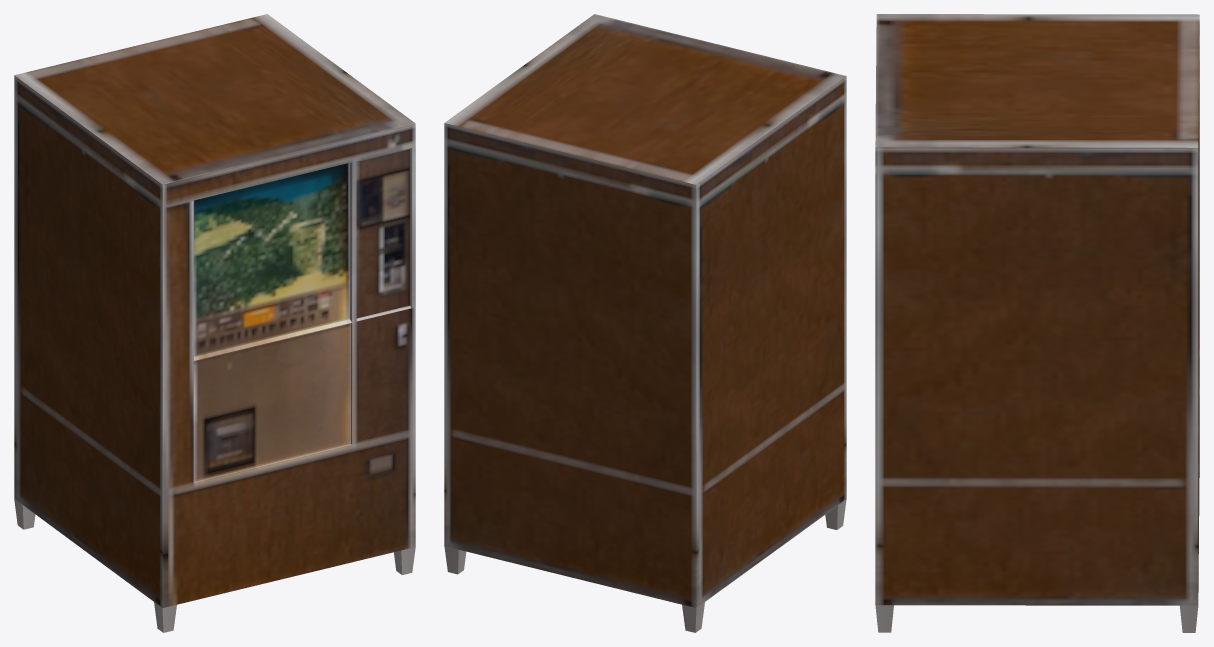
Rendered from coffee_machine.obj.
The picture shows the model from 3 angles, left to right: view 1: azimuth 30°, elevation 25°; view 2: azimuth 150°, elevation 25°; view 3: azimuth 270°, elevation 25°; orthographic projection. The views are drawn at different scales.
Parts seen in each view (by area): view 1: coffee_machine; view 2: coffee_machine; view 3: coffee_machine.
Boxes of the visible parts, left/top/right/bottom form: coffee_machine: left=14, top=14, right=415, bottom=632; coffee_machine: left=444, top=14, right=846, bottom=632; coffee_machine: left=875, top=14, right=1199, bottom=632.
Size of the model in its own units: 1.25 by 2.12 by 1.28.
